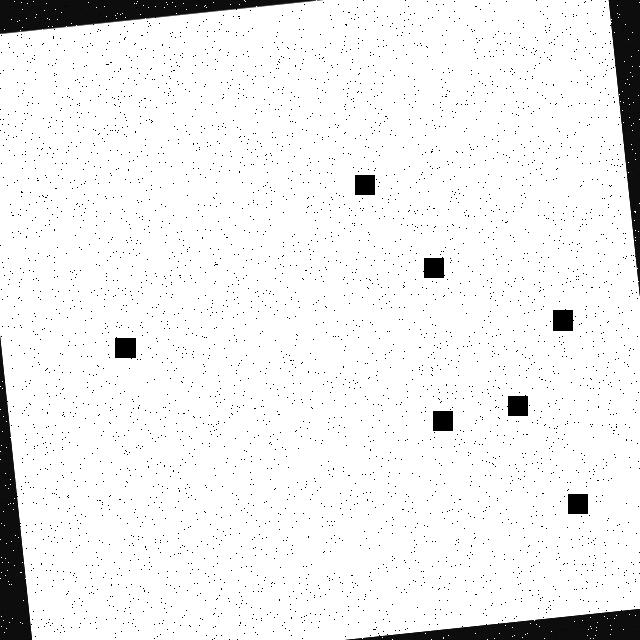plastic_box: (0, 107, 590, 604)
